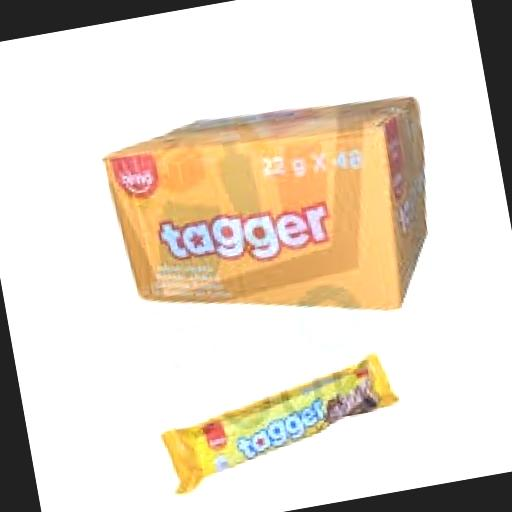tagger: (106, 320, 489, 512)
